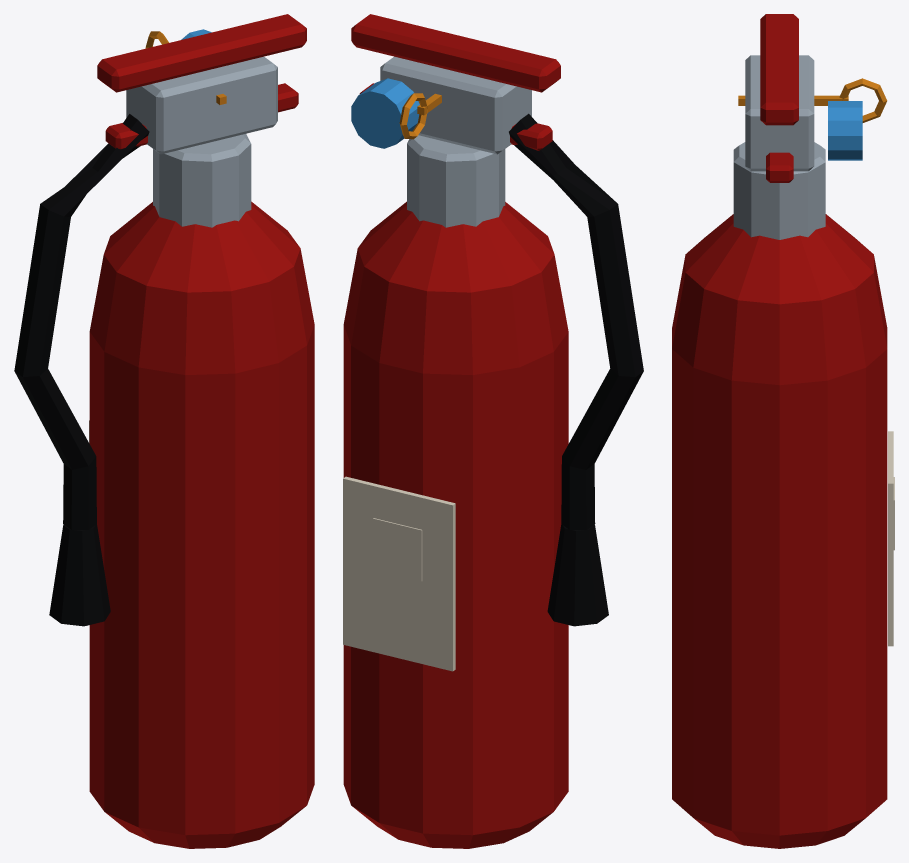
Rendered from RESCUE_06_FireExtinguisher.obj.
The picture shows the model from 3 angles, left to right: view 1: azimuth 30°, elevation 25°; view 2: azimuth 150°, elevation 25°; view 3: azimuth 270°, elevation 25°; orthographic projection. The views are drawn at different scales.
Visible parts, largest first — view 1: RESCUE_06_FireExtinguisher_Cylinder, RESCUE_06_FireExtinguisher_Valve_Head, RESCUE_06_FireExtinguisher_Hose, RESCUE_06_FireExtinguisher_Handle, RESCUE_06_FireExtinguisher_Nozzle, RESCUE_06_FireExtinguisher_Lever; view 2: RESCUE_06_FireExtinguisher_Cylinder, RESCUE_06_FireExtinguisher_Label, RESCUE_06_FireExtinguisher_Valve_Head, RESCUE_06_FireExtinguisher_Hose, RESCUE_06_FireExtinguisher_Handle, RESCUE_06_FireExtinguisher_Nozzle, RESCUE_06_FireExtinguisher_Gauge, RESCUE_06_FireExtinguisher_Pin, RESCUE_06_FireExtinguisher_Lever; view 3: RESCUE_06_FireExtinguisher_Cylinder, RESCUE_06_FireExtinguisher_Valve_Head, RESCUE_06_FireExtinguisher_Handle, RESCUE_06_FireExtinguisher_Gauge, RESCUE_06_FireExtinguisher_Label, RESCUE_06_FireExtinguisher_Pin, RESCUE_06_FireExtinguisher_Lever.
Part boxes in pixels (x1,y1,x2,y2): RESCUE_06_FireExtinguisher_Cylinder: [89, 201, 314, 848]; RESCUE_06_FireExtinguisher_Valve_Head: [126, 56, 277, 227]; RESCUE_06_FireExtinguisher_Hose: [14, 114, 149, 529]; RESCUE_06_FireExtinguisher_Handle: [97, 14, 306, 92]; RESCUE_06_FireExtinguisher_Nozzle: [49, 524, 110, 626]; RESCUE_06_FireExtinguisher_Lever: [105, 83, 298, 149]; RESCUE_06_FireExtinguisher_Cylinder: [343, 201, 568, 848]; RESCUE_06_FireExtinguisher_Label: [343, 476, 455, 671]; RESCUE_06_FireExtinguisher_Valve_Head: [380, 56, 531, 227]; RESCUE_06_FireExtinguisher_Hose: [509, 113, 643, 529]; RESCUE_06_FireExtinguisher_Handle: [351, 14, 560, 92]; RESCUE_06_FireExtinguisher_Nozzle: [547, 524, 608, 626]; RESCUE_06_FireExtinguisher_Gauge: [351, 78, 419, 148]; RESCUE_06_FireExtinguisher_Pin: [399, 93, 441, 139]; RESCUE_06_FireExtinguisher_Lever: [359, 83, 552, 150]; RESCUE_06_FireExtinguisher_Cylinder: [672, 214, 887, 848]; RESCUE_06_FireExtinguisher_Valve_Head: [733, 55, 825, 239]; RESCUE_06_FireExtinguisher_Handle: [760, 14, 798, 125]; RESCUE_06_FireExtinguisher_Gauge: [828, 101, 862, 160]; RESCUE_06_FireExtinguisher_Label: [888, 431, 894, 646]; RESCUE_06_FireExtinguisher_Pin: [738, 78, 887, 122]; RESCUE_06_FireExtinguisher_Lever: [766, 152, 793, 182].
Size of the model in its own units: 0.2303 by 0.604 by 0.1615.
